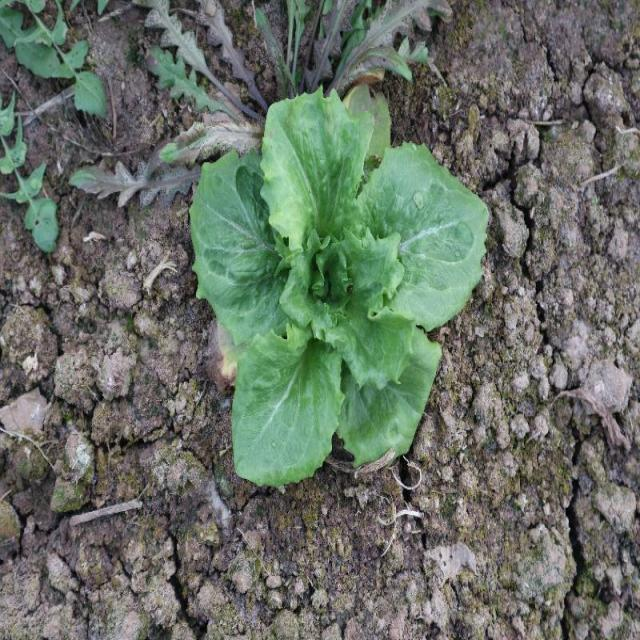crop: (185, 86, 493, 494)
